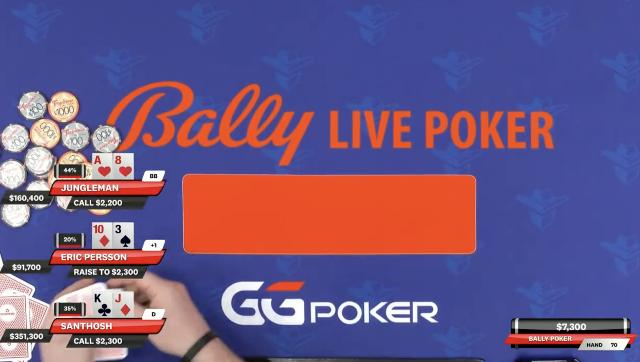10D: (93, 223, 113, 249)
3S: (114, 224, 134, 248)
8H: (114, 152, 134, 180)
AH: (91, 155, 112, 179)
JD: (114, 292, 134, 316)
KC: (90, 292, 112, 318)
